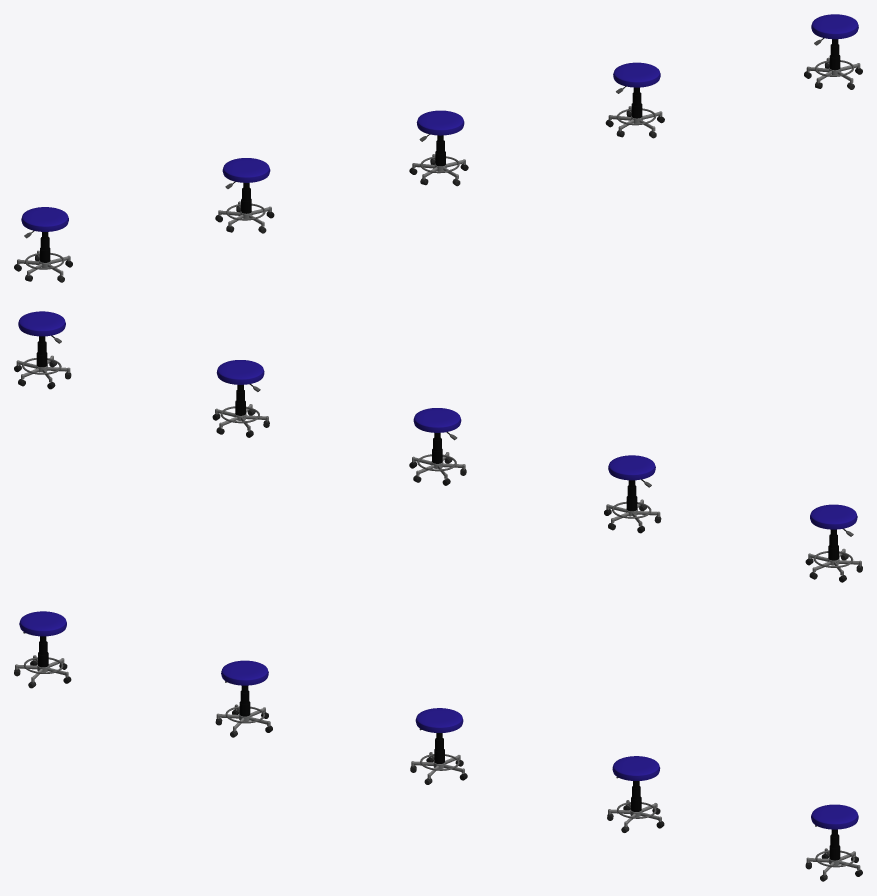
File: chair.fbx
3 views of the same model, one above another, from view 1: azimuth 30°, elevation 25°; view 2: azimuth 150°, elevation 25°; view 3: azimuth 330°, elevation 25° (orthographic).
Parts seen in each view (by area): view 1: Cylinder.088, Cylinder.065, Cylinder.131, Cylinder.066, Cylinder.153; view 2: Cylinder.066, Cylinder.153, Cylinder.131, Cylinder.088, Cylinder.065; view 3: Cylinder.153, Cylinder.066, Cylinder.131, Cylinder.065, Cylinder.088.
Boxes of the visible parts, x1=… form: Cylinder.088: x1=416, y1=110, x2=464, y2=135; Cylinder.065: x1=613, y1=62, x2=660, y2=87; Cylinder.131: x1=222, y1=158, x2=270, y2=182; Cylinder.066: x1=811, y1=14, x2=858, y2=39; Cylinder.153: x1=21, y1=207, x2=68, y2=231; Cylinder.066: x1=18, y1=311, x2=65, y2=336; Cylinder.153: x1=810, y1=504, x2=857, y2=529; Cylinder.131: x1=608, y1=455, x2=655, y2=480; Cylinder.088: x1=413, y1=408, x2=461, y2=432; Cylinder.065: x1=216, y1=360, x2=264, y2=384; Cylinder.153: x1=19, y1=611, x2=66, y2=636; Cylinder.066: x1=811, y1=804, x2=858, y2=829; Cylinder.131: x1=221, y1=660, x2=268, y2=685; Cylinder.065: x1=612, y1=756, x2=660, y2=780; Cylinder.088: x1=415, y1=708, x2=463, y2=732.
Size of the model in its own units: 1291 by 84.63 by 80.73.
